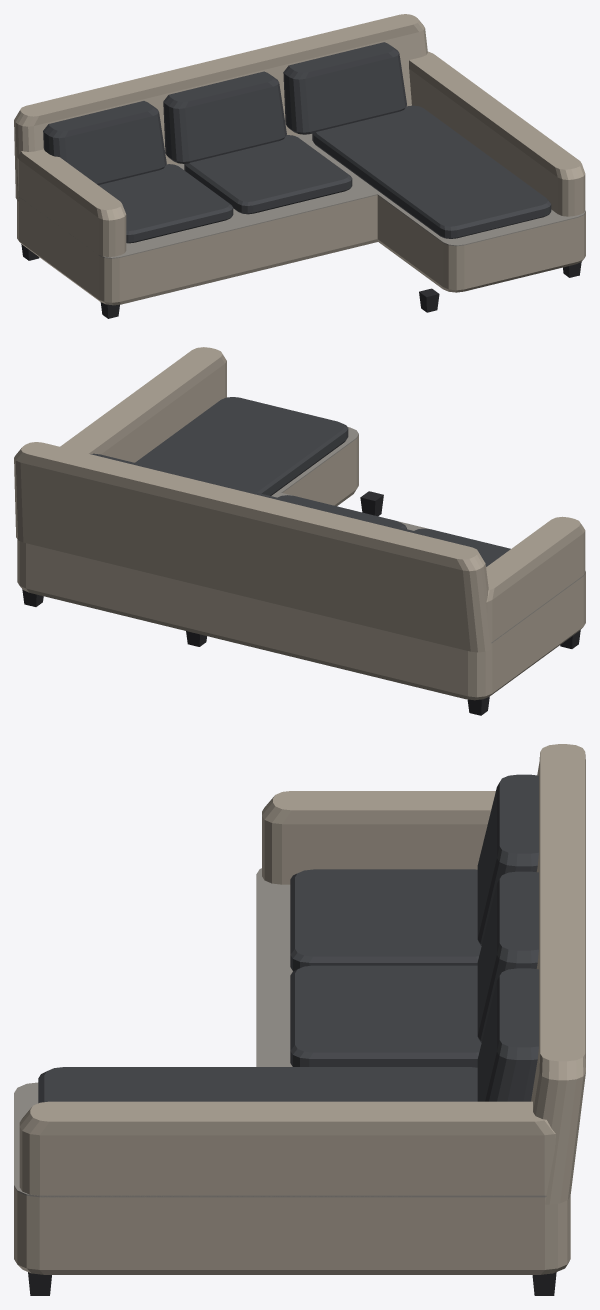
Rendered from FN_Sofa_Corner.glb.
3 renders of one model, top to bottom at view 1: azimuth 30°, elevation 25°; view 2: azimuth 150°, elevation 25°; view 3: azimuth 270°, elevation 25°, orthographic. The views are drawn at different scales.
Parts seen in each view (by area): view 1: FN_Sofa_Corner; view 2: FN_Sofa_Corner; view 3: FN_Sofa_Corner.
Boxes of the visible parts, x1=… form: FN_Sofa_Corner: x1=14, y1=14, x2=585, y2=318; FN_Sofa_Corner: x1=14, y1=347, x2=585, y2=715; FN_Sofa_Corner: x1=14, y1=744, x2=585, y2=1295.
Bounding box in the file's own units: 2.4 × 0.784 × 1.75.
Materials: 1 (1 with a texture image).
